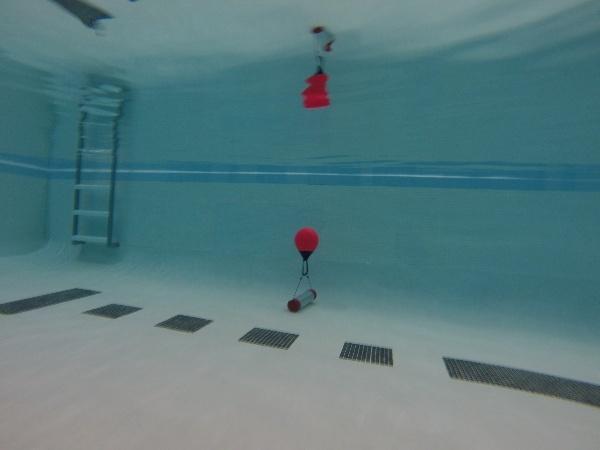buoy_red: (291, 225, 320, 261)
